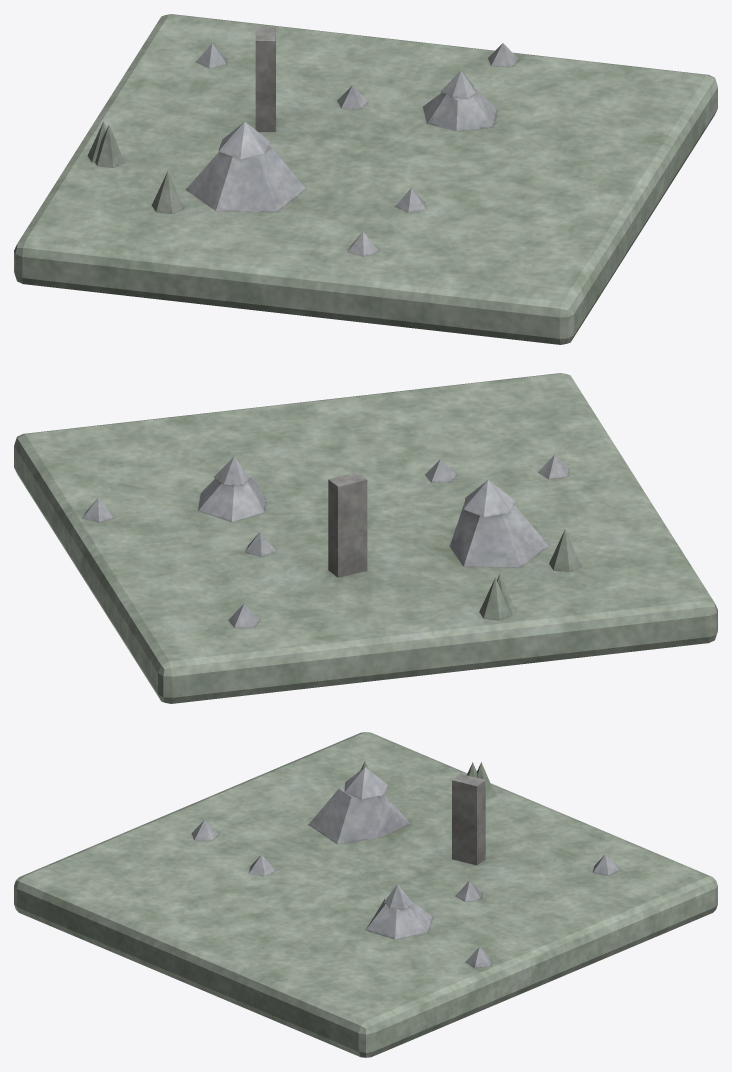
Rendered from brakkar_plains.glb.
The picture shows the model from 3 angles, top to bottom: view 1: azimuth 30°, elevation 25°; view 2: azimuth 150°, elevation 25°; view 3: azimuth 270°, elevation 25°; orthographic projection. The views are drawn at different scales.
Visible parts, largest first — view 1: dilek; view 2: dilek; view 3: dilek.
Part boxes in pixels (x1,y1,x2,y2): dilek: (14,14,717,344); dilek: (14,373,717,703); dilek: (14,732,717,1057).
Size of the model in its own units: 2.42 by 0.44 by 2.42.
Materials: 1 (1 with a texture image).
